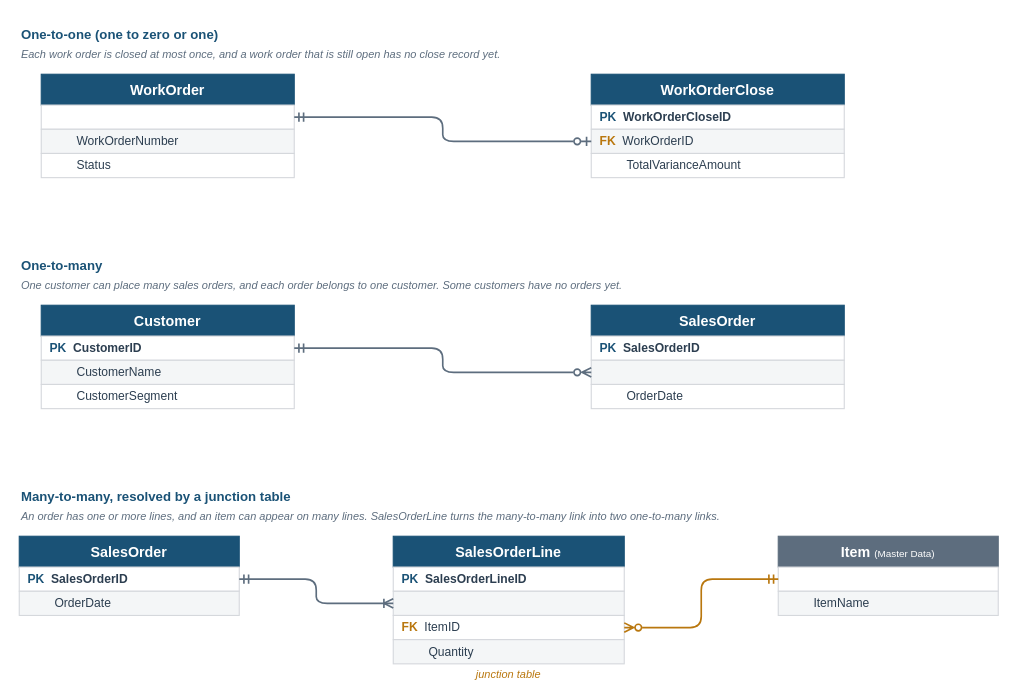
This 1029x700 diagram has some shape labels left out. The centre of each missing label's shape, as x and y in pixels:
FK CustomerID: point (717, 371)
FK SalesOrderID: point (508, 602)
PK ItemID: point (887, 578)
PK WorkOrderID: point (167, 116)
